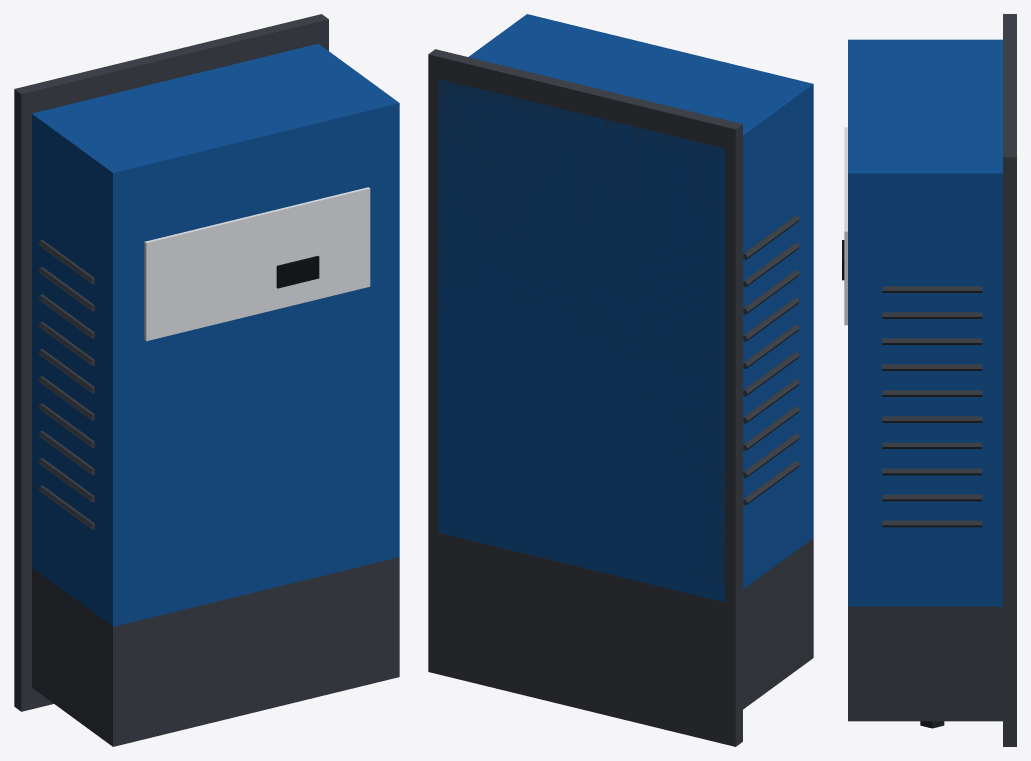
File: victron_multiplus_ii_12_3000.far.glb
3 renders of one model, left to right at view 1: azimuth 30°, elevation 25°; view 2: azimuth 150°, elevation 25°; view 3: azimuth 270°, elevation 25°, orthographic. The views are drawn at different scales.
Visible parts, largest first — view 1: victron_multiplus_ii_12_3000; view 2: victron_multiplus_ii_12_3000; view 3: victron_multiplus_ii_12_3000.
Part boxes in pixels (x1=…): victron_multiplus_ii_12_3000: x1=14, y1=14, x2=399, y2=746; victron_multiplus_ii_12_3000: x1=428, y1=14, x2=813, y2=746; victron_multiplus_ii_12_3000: x1=842, y1=14, x2=1016, y2=746.
Size of the model in its own units: 0.295 by 0.566 by 0.152.
